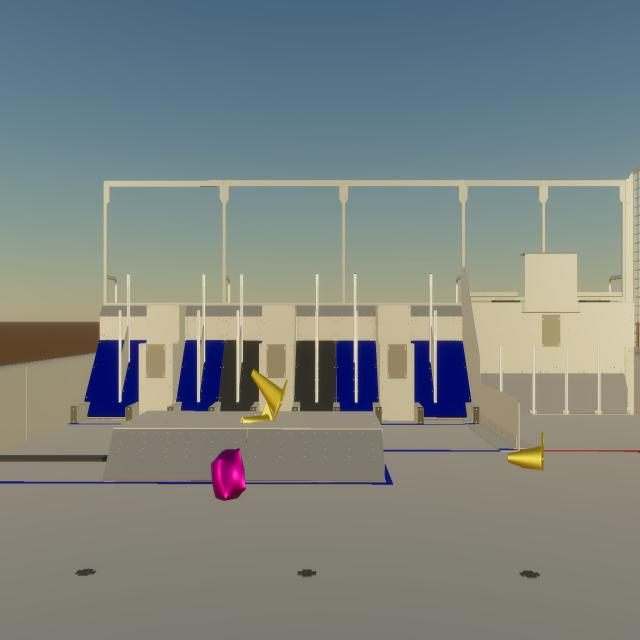frc_cone: (251, 369, 288, 421), (508, 433, 544, 471), (241, 402, 273, 423)
frc_cube: (210, 448, 246, 501)
